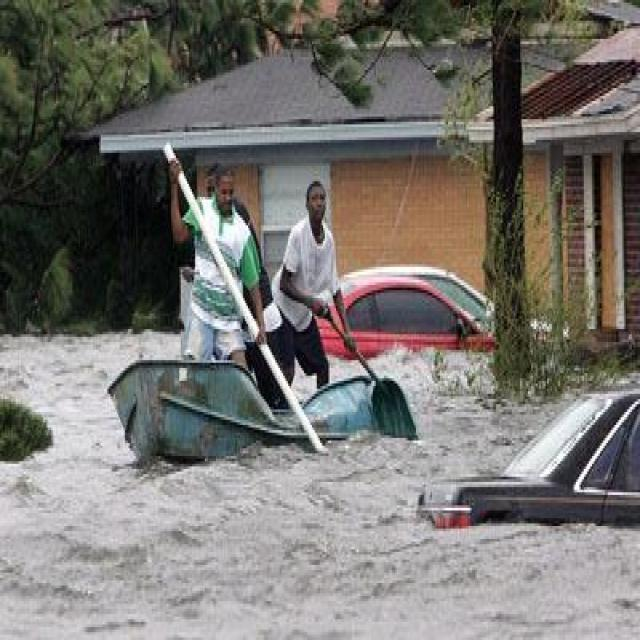water: (0, 334, 638, 637)
